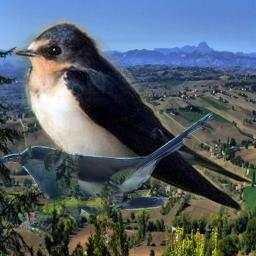Cuckoo: (0, 112, 219, 221)
Swallow: (12, 18, 252, 220)
